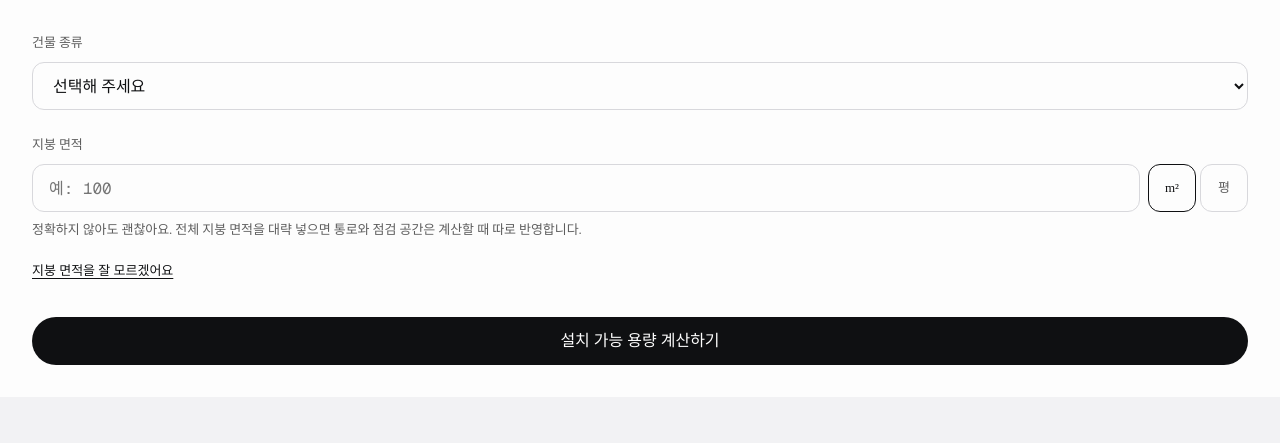
SolarCalculator area unit feedback › announces the converted roof area when the user changes units
Step 1. Type "100" into the number field labelled "지붕 면적" → (586, 188), box top-left (32, 164), bottom-right (1140, 212)
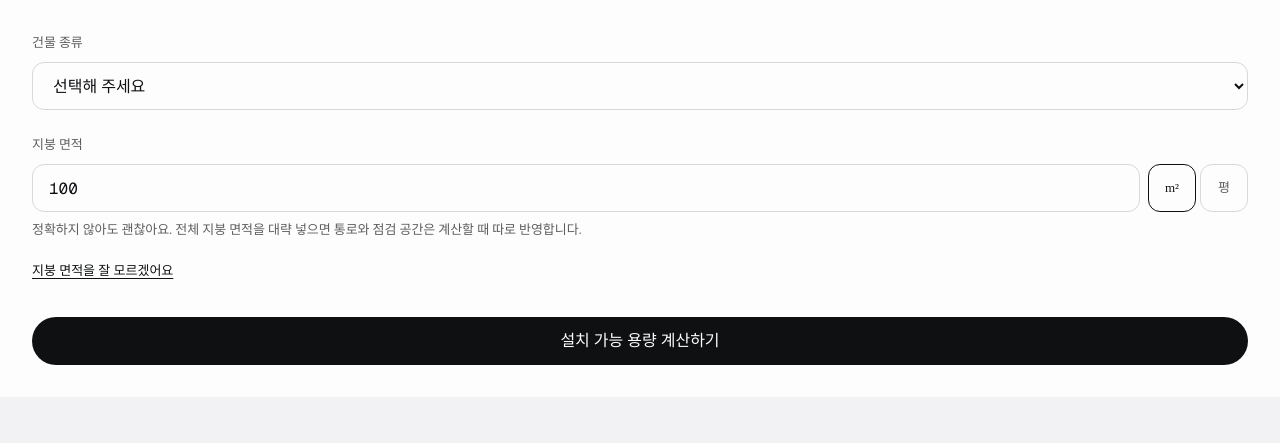
Step 2. Click the button "평" → (1224, 188), box top-left (1200, 164), bottom-right (1248, 212)
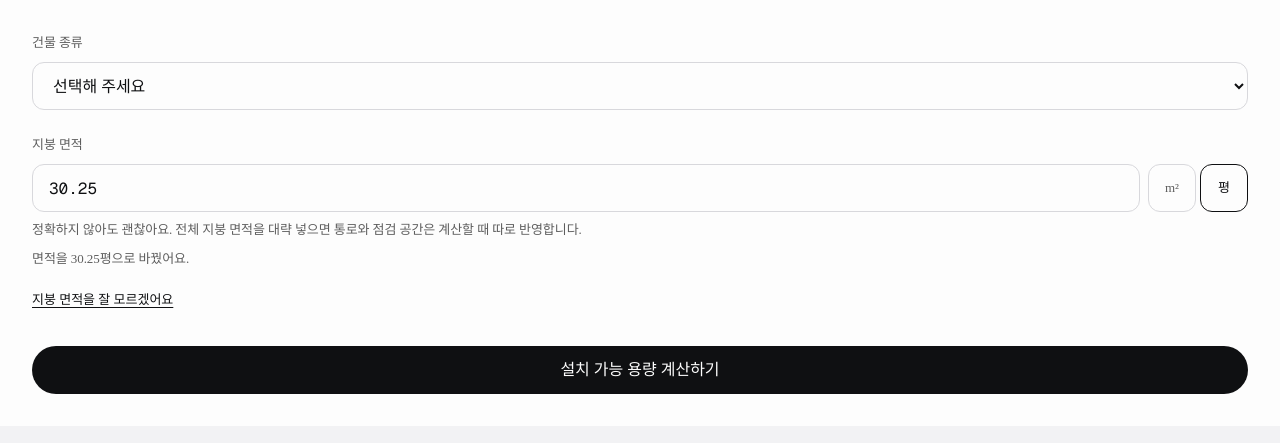
Check: the number field labelled "지붕 면적" holds "30.25", box top-left (32, 164), bottom-right (1140, 212)
Check: the message reads "면적을 30.25평으로 바꿨어요.", box top-left (32, 251), bottom-right (189, 266)
